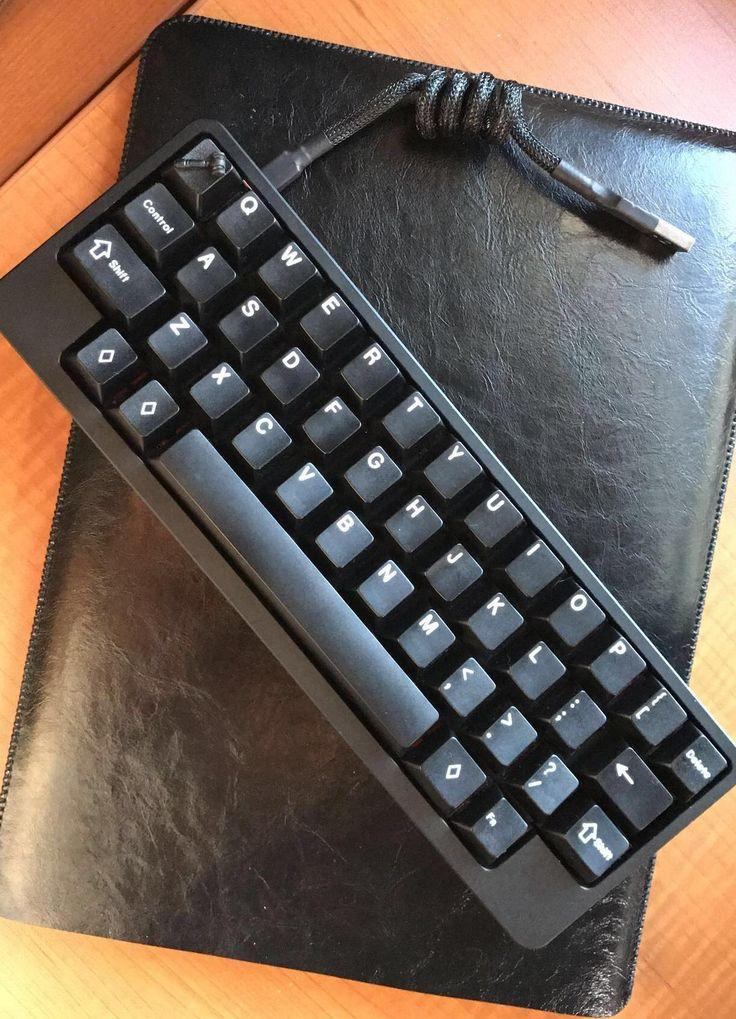keyboard: (0, 116, 735, 952)
